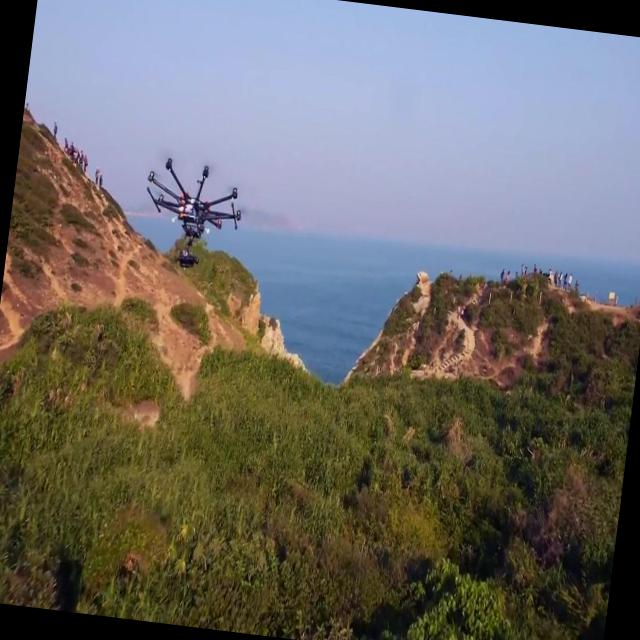drone: (136, 150, 248, 276)
